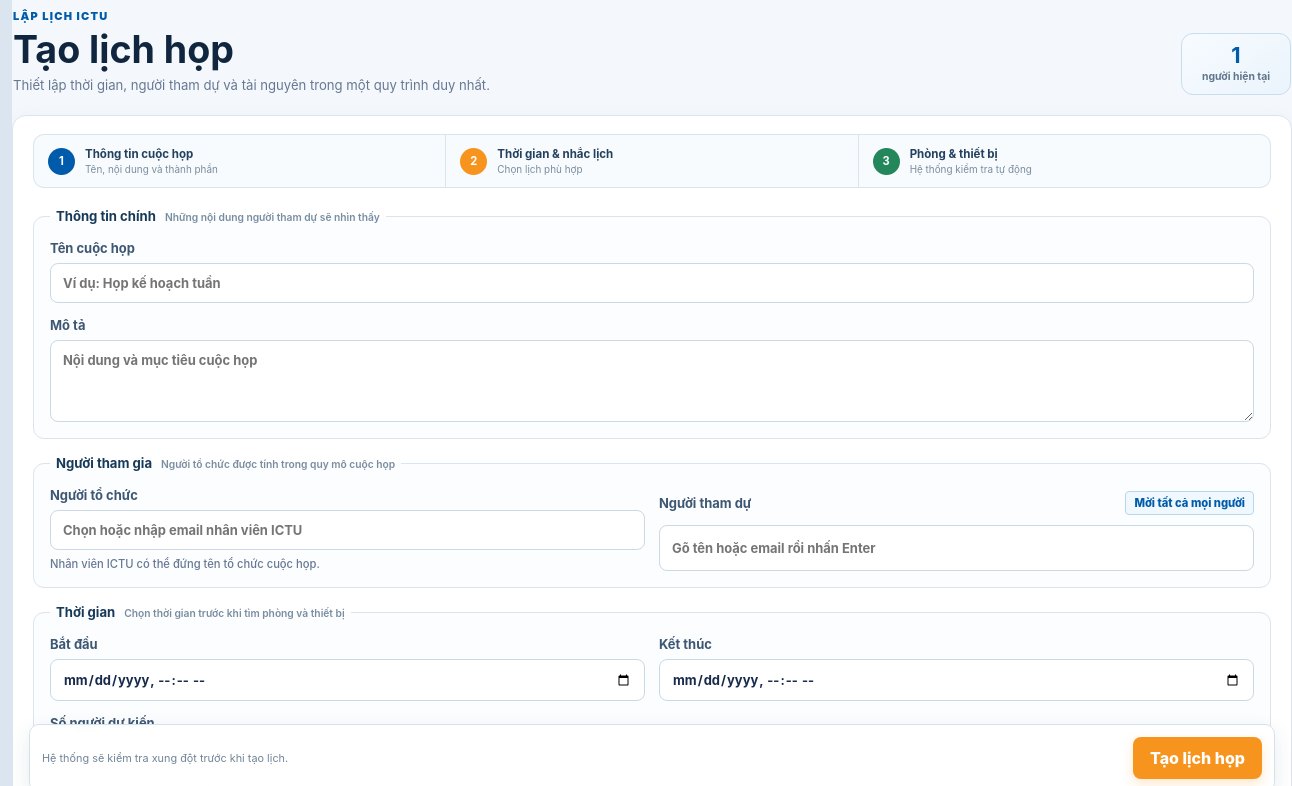
Scenario: MeetingForm room-aware creation › adds an attendee from the email suggestion list
Type "employee.one" into the field named "Người tham dự" at (956,548), box [659, 525, 1254, 571]
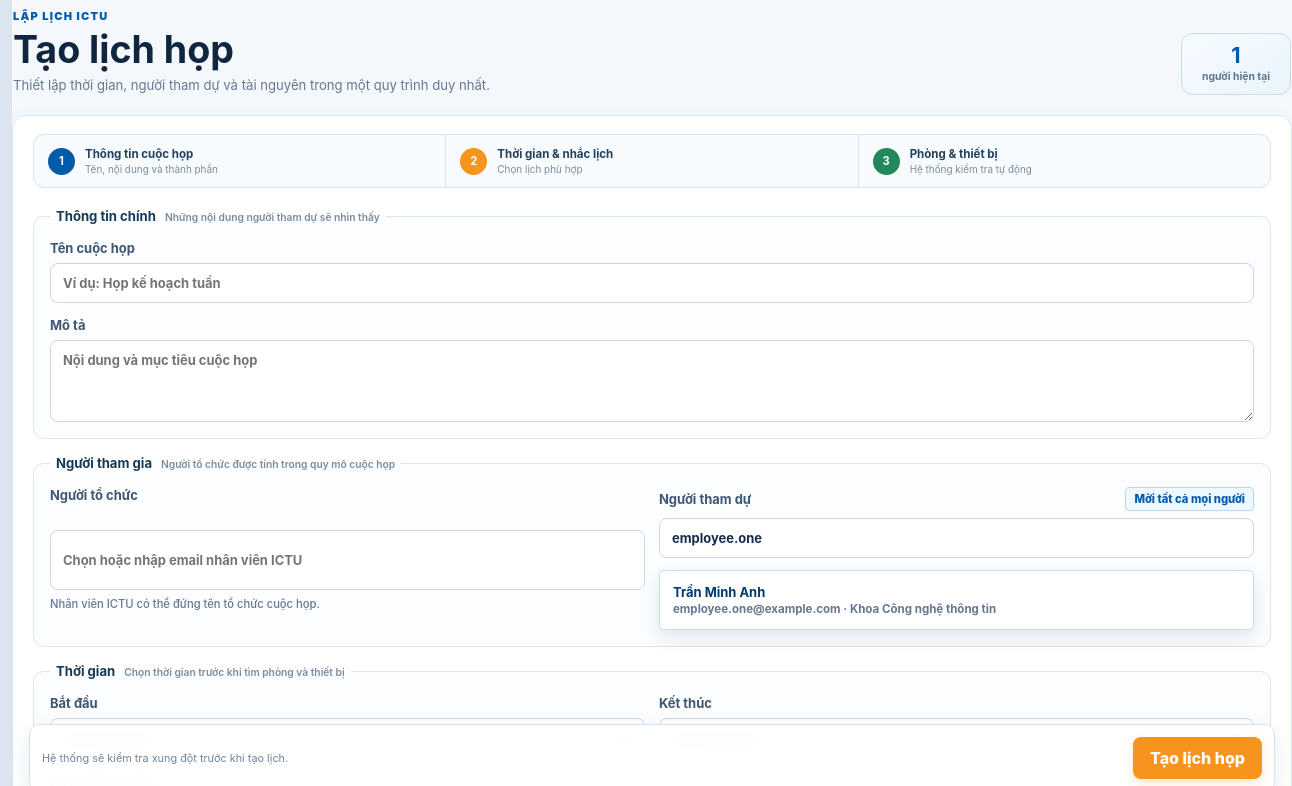
Click the button "Trần Minh Anh" at (956,600), box [665, 576, 1248, 624]
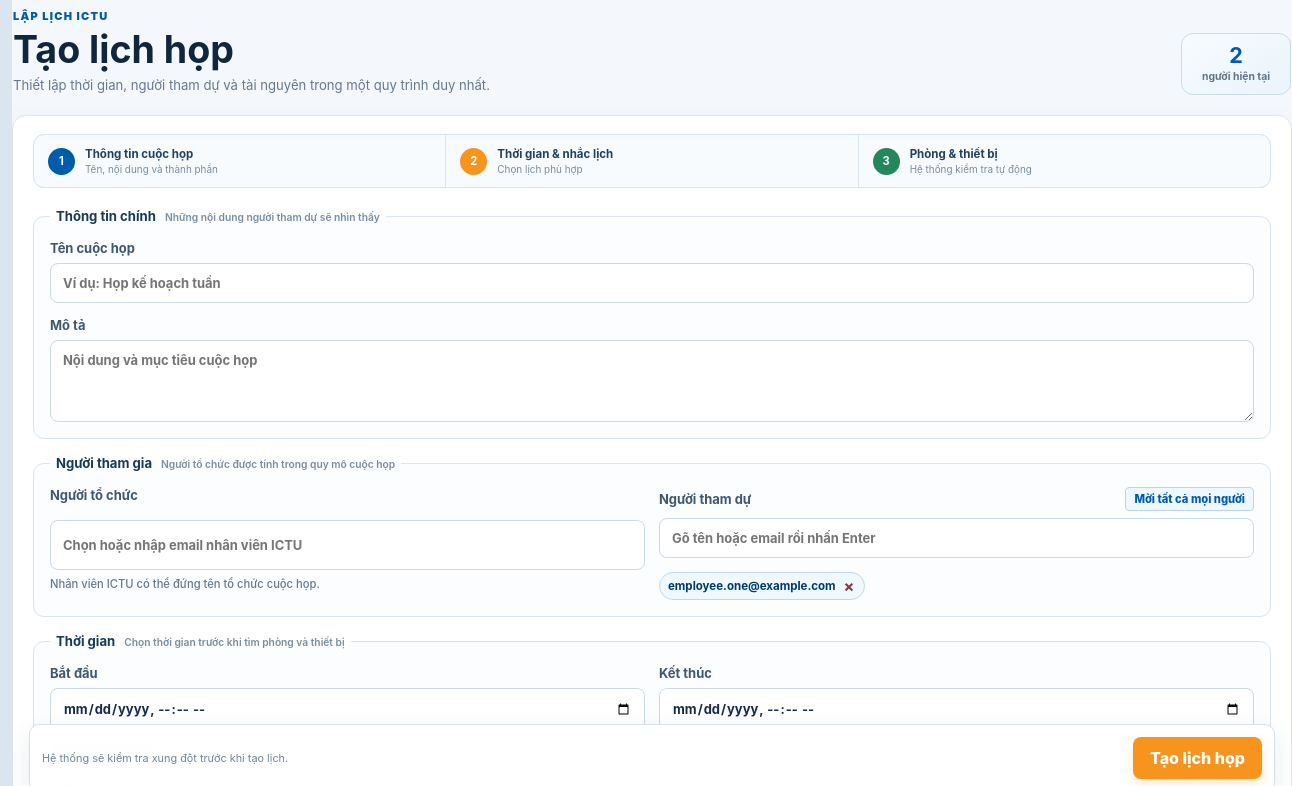
expect the text "employee.one@example.com" is shown: met, box [668, 579, 836, 593]
